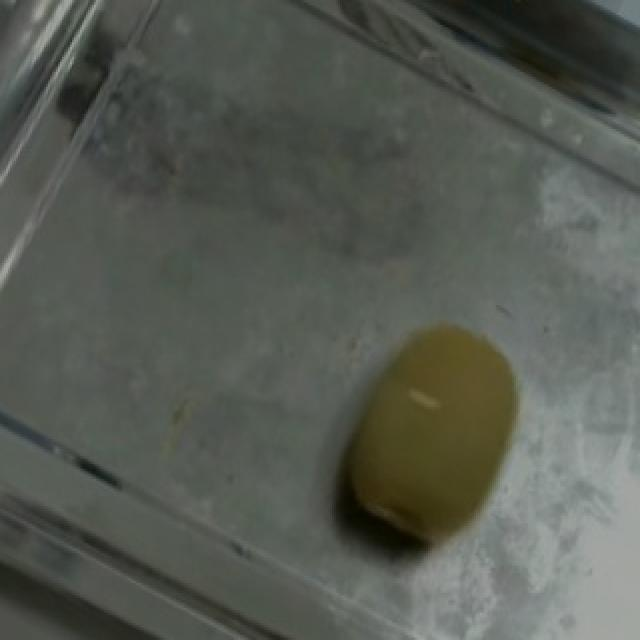Fruit: (298, 283, 562, 578)
